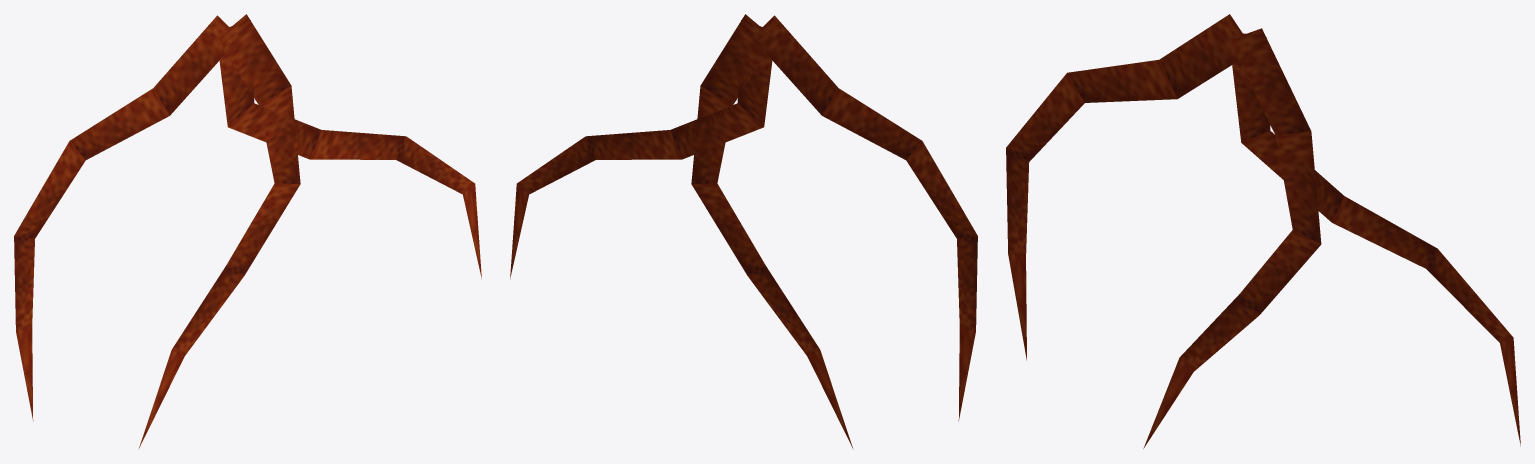
The model's file is naval_n_tenaclec_idle.glb.
3 views of the same model, side by side, from view 1: azimuth 30°, elevation 25°; view 2: azimuth 150°, elevation 25°; view 3: azimuth 330°, elevation 25° (orthographic). The views are drawn at different scales.
Visible parts, largest first — view 1: MeshRoot; view 2: MeshRoot; view 3: MeshRoot.
Boxes of the visible parts, <box> form: MeshRoot: <box>14,14,481,449</box>; MeshRoot: <box>510,14,977,449</box>; MeshRoot: <box>1006,14,1520,448</box>.
Size of the model in its own units: 3.82 by 3.24 by 0.
Materials: 1 (1 with a texture image).
